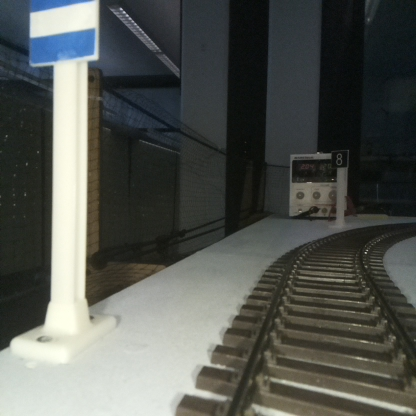black-info-8: (331, 150, 348, 228)
start: (29, 0, 98, 355)
